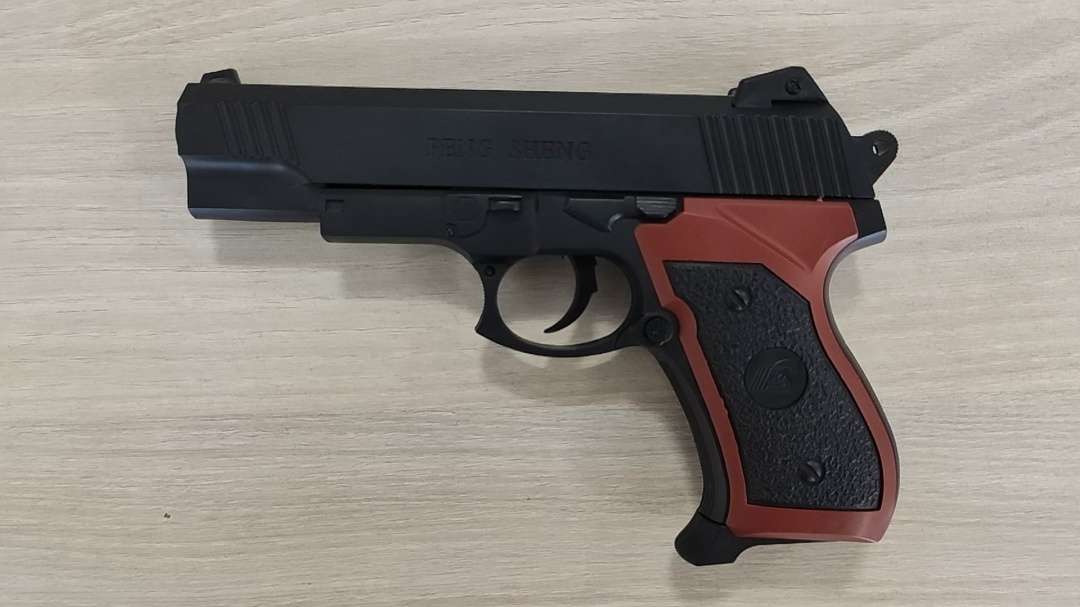gun: (217, 168, 443, 279)
